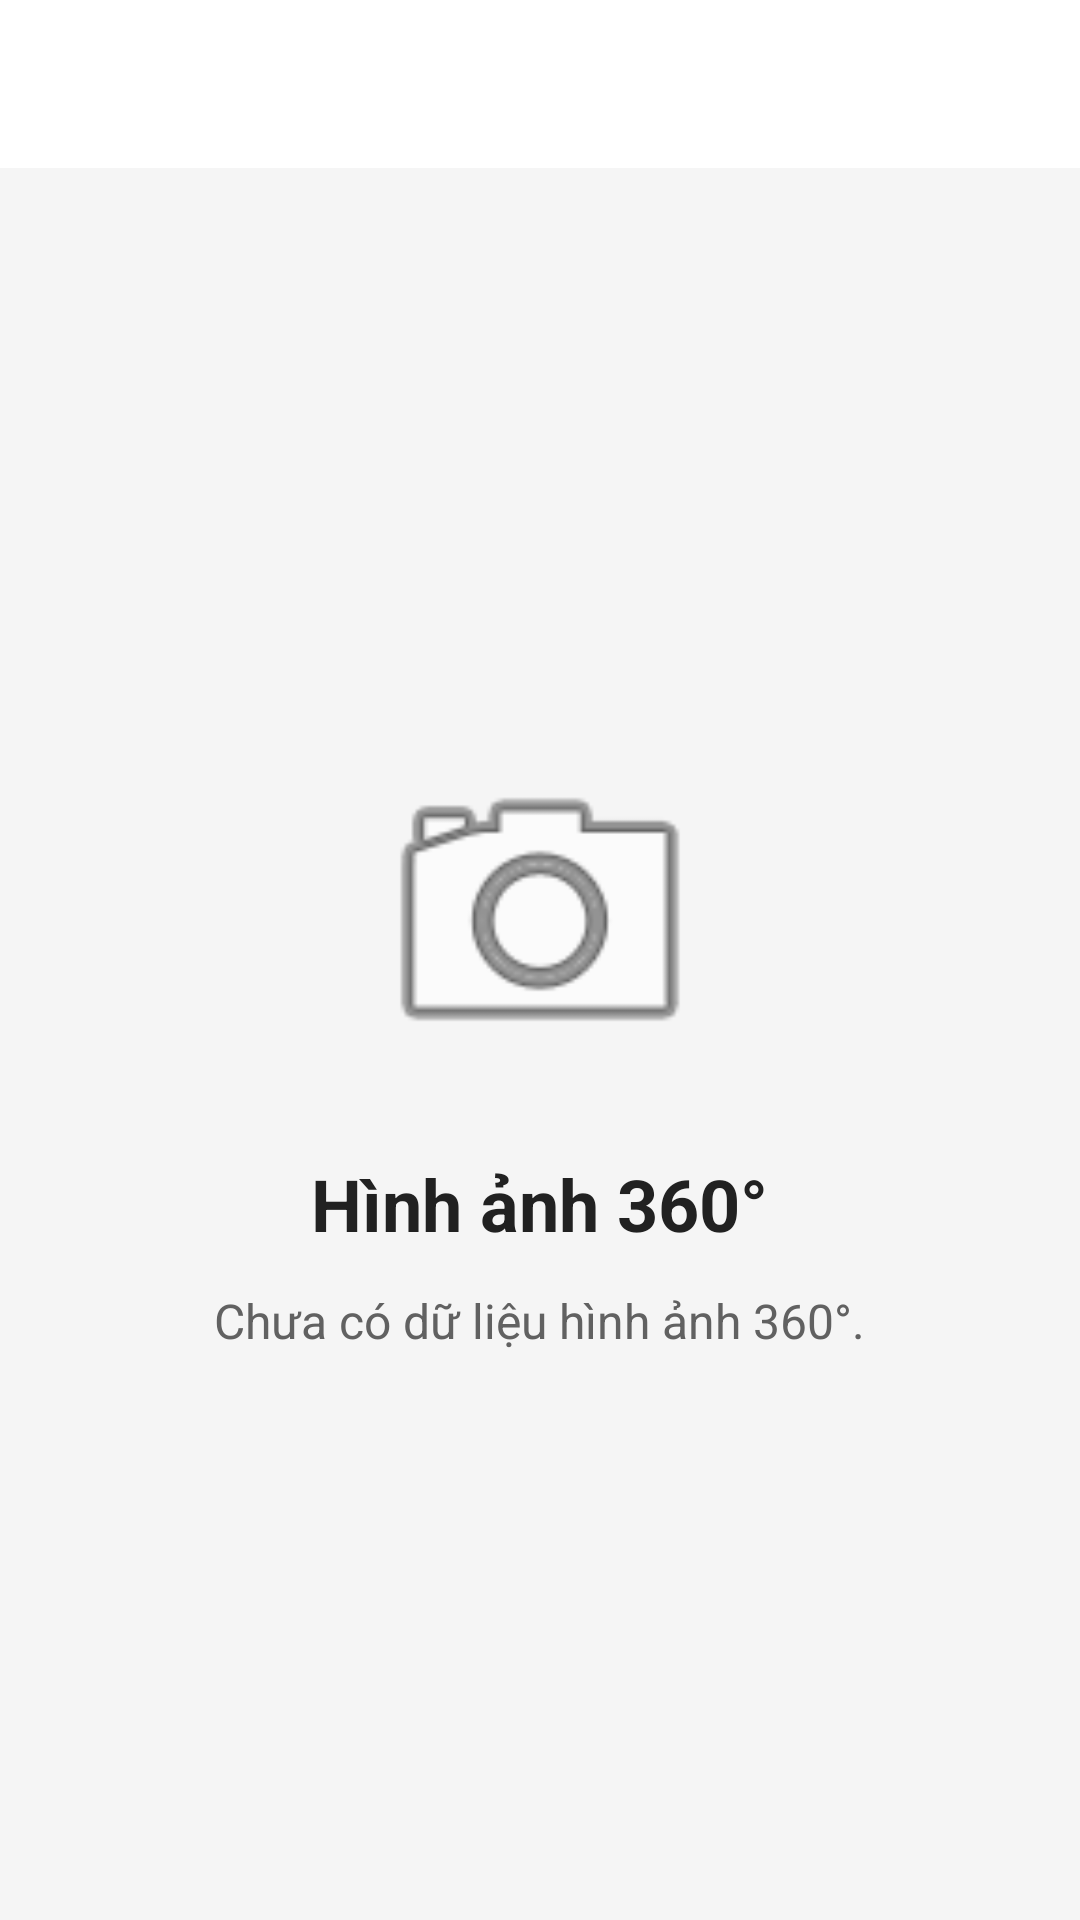

Icon bounding boxes for this 1080x1920 phone screenshot, format (x1, y1, x2, y2):
camera: (401, 798, 679, 1020)
